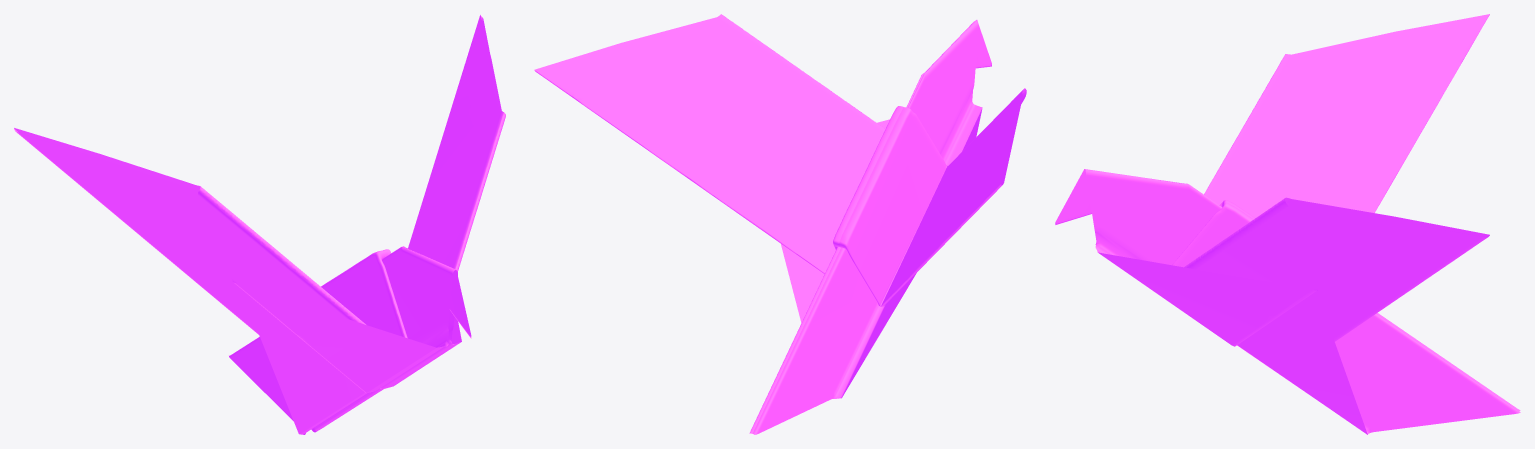
The model's file is bird.glb.
3 views of the same model, side by side, from view 1: azimuth 30°, elevation 25°; view 2: azimuth 150°, elevation 25°; view 3: azimuth 270°, elevation 25° (orthographic). The views are drawn at different scales.
Visible parts, largest first — view 1: _gltfNode_0; view 2: _gltfNode_0; view 3: _gltfNode_0.
Boxes of the visible parts, x1,y1,x2,y2 form: _gltfNode_0: (14,15,505,434); _gltfNode_0: (534,14,1026,434); _gltfNode_0: (1055,14,1520,434).
Size of what is drawn, in the model's own units: 97.58 by 63.32 by 86.83.
